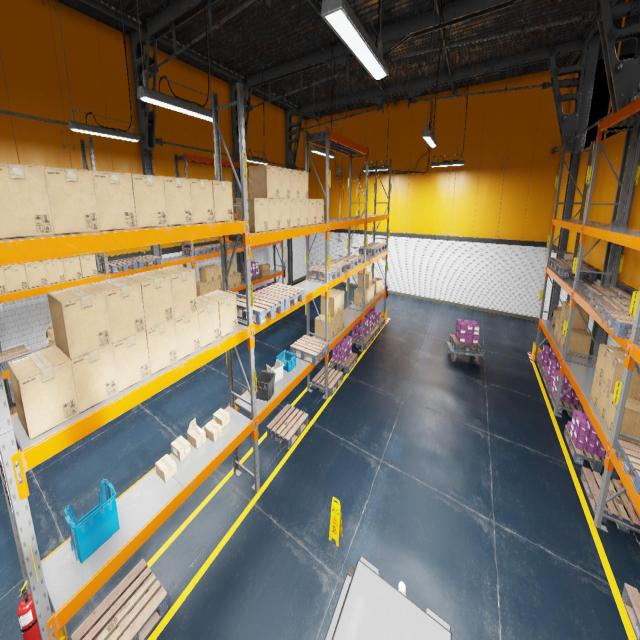box: (7, 346, 79, 440), (47, 284, 112, 359), (0, 163, 54, 239), (43, 167, 100, 234), (89, 276, 145, 343), (71, 344, 118, 413), (124, 270, 174, 330), (92, 171, 137, 231), (153, 265, 198, 319), (112, 330, 150, 392), (131, 174, 167, 228), (604, 392, 640, 445), (602, 352, 640, 400), (200, 290, 238, 337), (146, 320, 178, 374), (163, 176, 193, 226), (174, 310, 201, 360), (197, 296, 220, 348), (595, 343, 626, 381), (190, 178, 214, 224), (236, 198, 268, 232), (560, 326, 592, 358), (248, 165, 279, 198), (212, 180, 233, 222), (560, 301, 589, 330), (557, 321, 586, 346), (3, 265, 28, 292), (24, 262, 48, 288), (155, 454, 177, 482), (187, 418, 206, 448), (44, 259, 66, 284), (596, 382, 610, 421), (315, 314, 334, 341), (62, 256, 82, 280), (77, 254, 97, 277), (171, 436, 190, 460), (321, 292, 339, 317), (590, 372, 602, 408), (278, 167, 290, 199), (268, 198, 280, 230), (205, 420, 222, 442), (329, 289, 344, 312), (213, 408, 230, 428), (280, 198, 290, 228), (290, 198, 300, 227), (358, 270, 372, 289), (290, 169, 299, 198), (354, 288, 368, 306), (299, 170, 308, 198), (199, 266, 214, 282), (551, 306, 561, 328), (300, 199, 308, 226), (358, 287, 371, 303), (308, 198, 316, 224), (207, 264, 220, 280), (46, 324, 55, 346), (316, 198, 323, 224), (196, 281, 208, 296), (372, 278, 383, 294), (0, 268, 7, 293), (220, 275, 230, 290), (259, 263, 270, 276), (554, 317, 560, 340), (227, 260, 235, 276), (339, 309, 344, 332), (334, 313, 339, 336), (2, 263, 24, 267), (235, 272, 241, 286), (229, 274, 235, 288), (207, 281, 214, 293), (24, 260, 44, 264), (214, 279, 221, 290), (44, 258, 62, 261), (372, 284, 374, 300)
forklift: (324, 556, 452, 640)
pallets: (70, 559, 168, 639), (580, 466, 640, 534), (564, 425, 620, 479), (267, 404, 308, 449), (237, 292, 284, 324), (615, 440, 640, 495), (256, 282, 304, 310), (601, 308, 640, 340), (548, 385, 585, 417), (290, 335, 329, 364), (621, 582, 640, 640), (590, 294, 631, 318), (312, 366, 343, 396), (0, 344, 31, 372), (582, 283, 632, 300), (555, 262, 598, 281), (449, 334, 481, 353), (309, 264, 342, 282), (101, 258, 138, 274), (330, 352, 357, 373), (548, 258, 586, 270), (127, 255, 161, 268), (324, 259, 351, 274), (352, 333, 372, 350), (338, 255, 362, 268), (185, 246, 210, 256), (537, 356, 548, 376), (359, 245, 381, 255), (367, 324, 379, 340), (368, 242, 387, 252), (542, 369, 550, 392), (202, 244, 220, 253), (241, 274, 261, 281), (374, 318, 384, 330), (226, 242, 242, 249), (9, 406, 17, 416)
